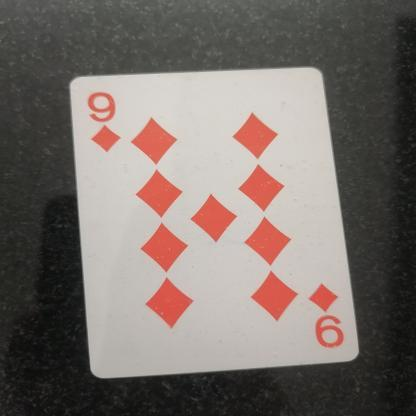9D: (304, 269, 350, 360), (83, 83, 120, 166)
